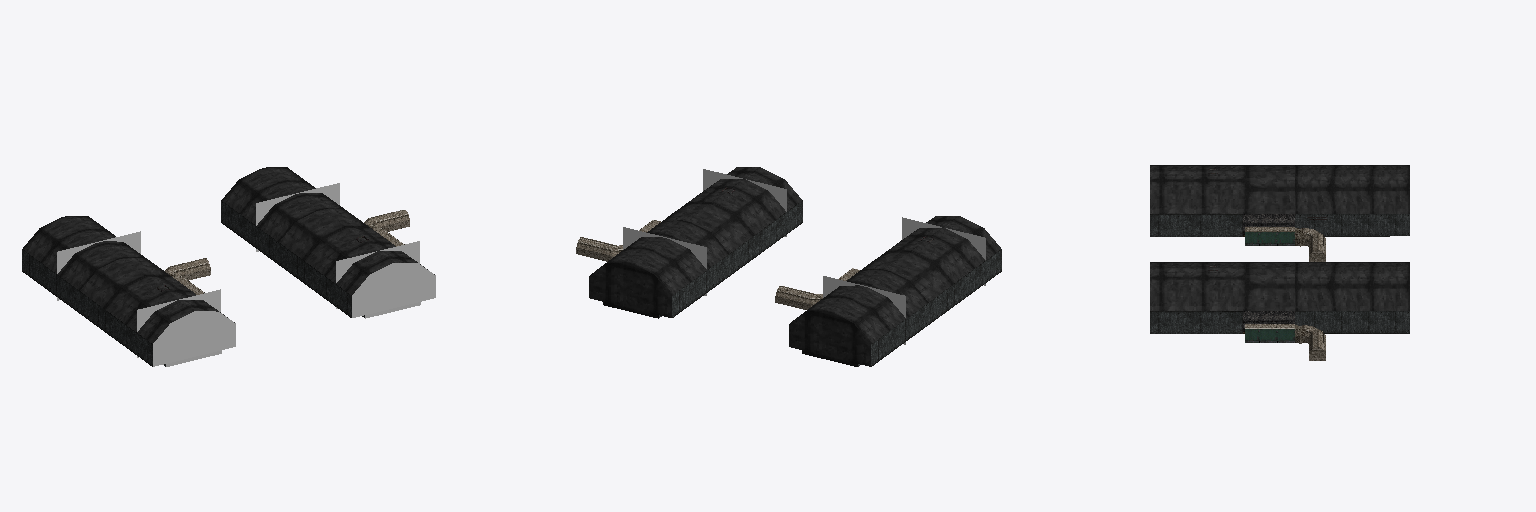
3 views of the same model, side by side, from view 1: azimuth 30°, elevation 25°; view 2: azimuth 150°, elevation 25°; view 3: azimuth 270°, elevation 25° (orthographic).
Visible parts, largest first — view 1: #Room0#IgnoreFog#_Plane.021_Concrete., #Room1#IgnoreFog#_Plane.019_Concrete., #Room0#IgnoreFog#_Plane.021_BlackColor., #Room1#IgnoreFog#_Plane.019_BlackColor., #Room0#IgnoreFog#_Plane.021_MetalWall., #Room1#IgnoreFog#_Plane.019_MetalWall., #Room1#IgnoreFog#_Plane.019_Dark_Wood., #Room0#IgnoreFog#_Plane.021_Dark_Wood., #Room0#IgnoreFog#_Plane.006_Collision.#WALLPROPERTY_NO_LEDGE_GRA, #Room1#IgnoreFog#_Plane.020_Collision.#WALLPROPERTY_NO_LEDGE_GRA, #Room1#IgnoreFog#_Plane.026_Collision.#WALLPROPERTY_NO_LEDGE_GRA, #Room0#IgnoreFog#_Plane.002_Collision.#WALLPROPERTY_NO_LEDGE_GRA; view 2: #Room0#IgnoreFog#_Plane.021_Concrete., #Room1#IgnoreFog#_Plane.019_Concrete., #Room0#IgnoreFog#_Plane.021_MetalWall., #Room1#IgnoreFog#_Plane.019_MetalWall., #Room1#IgnoreFog#_Plane.019_Dark_Wood., #Room0#IgnoreFog#_Plane.021_Dark_Wood., #Room1#IgnoreFog#_Plane.020_Collision.#WALLPROPERTY_NO_LEDGE_GRA, #Room0#IgnoreFog#_Plane.006_Collision.#WALLPROPERTY_NO_LEDGE_GRA, #Room0#IgnoreFog#_Plane.002_Collision.#WALLPROPERTY_NO_LEDGE_GRA, #Room1#IgnoreFog#_Plane.026_Collision.#WALLPROPERTY_NO_LEDGE_GRA; view 3: #Room0#IgnoreFog#_Plane.021_Concrete., #Room1#IgnoreFog#_Plane.019_Concrete., #Room0#IgnoreFog#_Plane.021_MetalWall., #Room1#IgnoreFog#_Plane.019_MetalWall., #Room0#IgnoreFog#_Plane.021_Dark_Wood., #Room1#IgnoreFog#_Plane.019_Dark_Wood., #Room0#IgnoreFog#_Plane.021_Piranesi_material_81.#MirrorX, #Room1#IgnoreFog#_Plane.019_Piranesi_material_81.#MirrorX, #Room0#IgnoreFog#_Plane.021_Storm_material_35., #Room1#IgnoreFog#_Plane.019_Storm_material_35..
Boxes of the visible parts, box(x1,y1,x2,y2) form: #Room0#IgnoreFog#_Plane.021_Concrete.: box(222, 167, 434, 294); #Room1#IgnoreFog#_Plane.019_Concrete.: box(23, 216, 234, 343); #Room0#IgnoreFog#_Plane.021_BlackColor.: box(352, 263, 435, 318); #Room1#IgnoreFog#_Plane.019_BlackColor.: box(153, 311, 235, 366); #Room0#IgnoreFog#_Plane.021_MetalWall.: box(221, 200, 364, 317); #Room1#IgnoreFog#_Plane.019_MetalWall.: box(22, 249, 165, 366); #Room1#IgnoreFog#_Plane.019_Dark_Wood.: box(165, 258, 210, 294); #Room0#IgnoreFog#_Plane.021_Dark_Wood.: box(364, 210, 409, 246); #Room0#IgnoreFog#_Plane.006_Collision.#WALLPROPERTY_NO_LEDGE_GRA: box(256, 183, 339, 251); #Room1#IgnoreFog#_Plane.020_Collision.#WALLPROPERTY_NO_LEDGE_GRA: box(137, 289, 220, 357); #Room1#IgnoreFog#_Plane.026_Collision.#WALLPROPERTY_NO_LEDGE_GRA: box(57, 231, 140, 300); #Room0#IgnoreFog#_Plane.002_Collision.#WALLPROPERTY_NO_LEDGE_GRA: box(336, 241, 419, 308); #Room0#IgnoreFog#_Plane.021_Concrete.: box(589, 167, 801, 318); #Room1#IgnoreFog#_Plane.019_Concrete.: box(789, 216, 1000, 366); #Room0#IgnoreFog#_Plane.021_MetalWall.: box(659, 200, 802, 317); #Room1#IgnoreFog#_Plane.019_MetalWall.: box(858, 249, 1001, 366); #Room1#IgnoreFog#_Plane.019_Dark_Wood.: box(775, 268, 859, 309); #Room0#IgnoreFog#_Plane.021_Dark_Wood.: box(576, 220, 660, 261); #Room1#IgnoreFog#_Plane.020_Collision.#WALLPROPERTY_NO_LEDGE_GRA: box(902, 217, 985, 285); #Room0#IgnoreFog#_Plane.006_Collision.#WALLPROPERTY_NO_LEDGE_GRA: box(623, 227, 706, 295); #Room0#IgnoreFog#_Plane.002_Collision.#WALLPROPERTY_NO_LEDGE_GRA: box(703, 169, 786, 236); #Room1#IgnoreFog#_Plane.026_Collision.#WALLPROPERTY_NO_LEDGE_GRA: box(823, 276, 905, 344); #Room0#IgnoreFog#_Plane.021_Concrete.: box(1150, 262, 1409, 310); #Room1#IgnoreFog#_Plane.019_Concrete.: box(1150, 165, 1409, 213); #Room0#IgnoreFog#_Plane.021_MetalWall.: box(1150, 311, 1409, 333); #Room1#IgnoreFog#_Plane.019_MetalWall.: box(1150, 214, 1409, 236); #Room0#IgnoreFog#_Plane.021_Dark_Wood.: box(1245, 324, 1325, 360); #Room1#IgnoreFog#_Plane.019_Dark_Wood.: box(1245, 227, 1325, 261); #Room0#IgnoreFog#_Plane.021_Piranesi_material_81.#MirrorX: box(1245, 329, 1294, 342); #Room1#IgnoreFog#_Plane.019_Piranesi_material_81.#MirrorX: box(1245, 232, 1294, 245); #Room0#IgnoreFog#_Plane.021_Storm_material_35.: box(1243, 311, 1294, 333); #Room1#IgnoreFog#_Plane.019_Storm_material_35.: box(1243, 214, 1294, 236).
Size of the model in its own units: 8795 by 1287 by 5896.
44 materials, 38 textured.